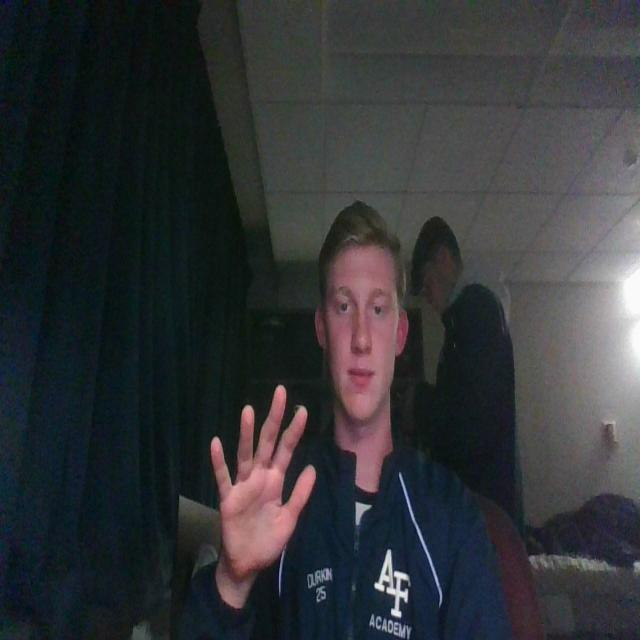paper: (206, 378, 320, 582)
